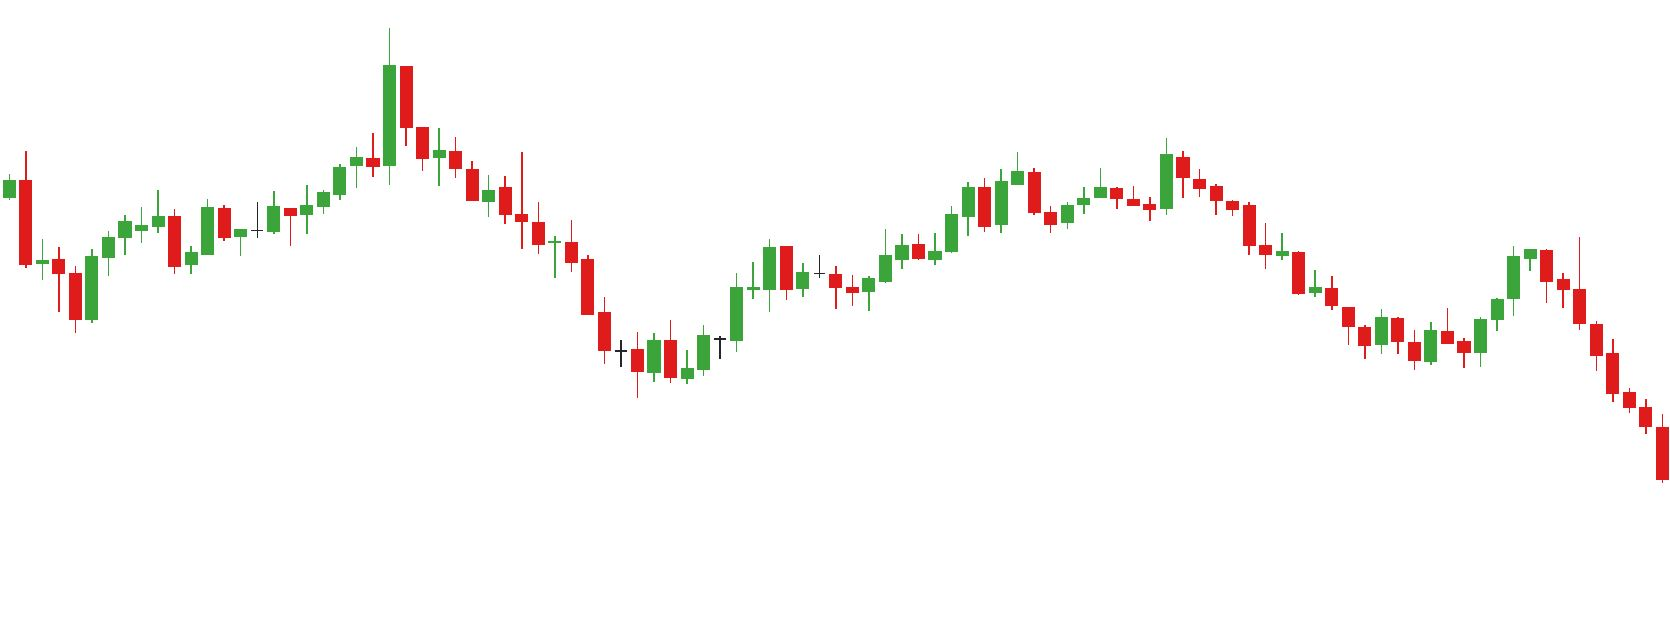sell: (1009, 137, 1191, 206)
